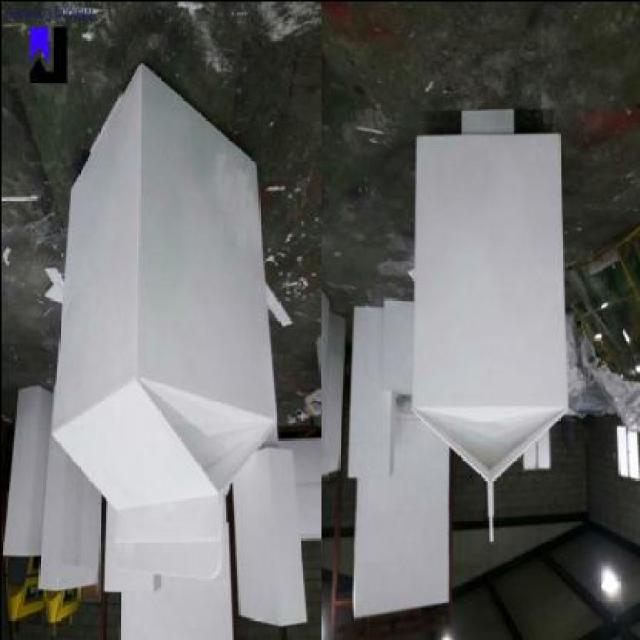non_white_jug: (37, 56, 275, 586), (404, 112, 576, 552)
